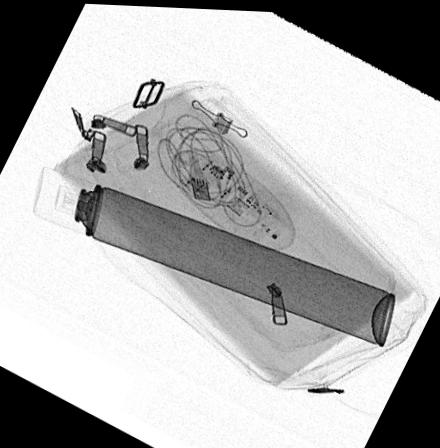Sprayer: (32, 164, 396, 343)
